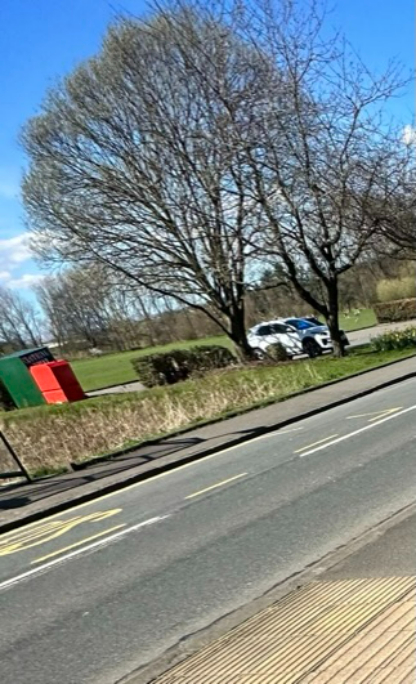car: (241, 321, 351, 362)
tree: (8, 2, 260, 349), (263, 2, 384, 336)
